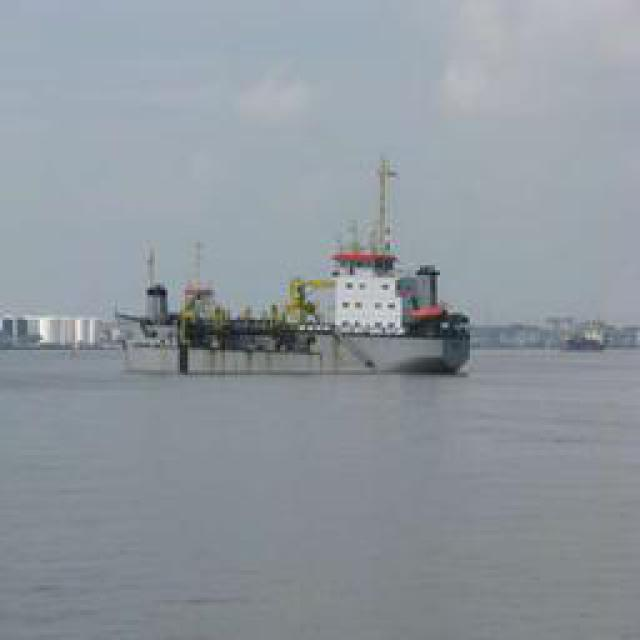Ship: (174, 155, 467, 380)
